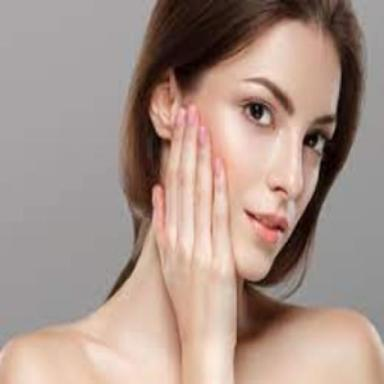normal skin: (1, 103, 384, 384), (184, 20, 341, 281)
